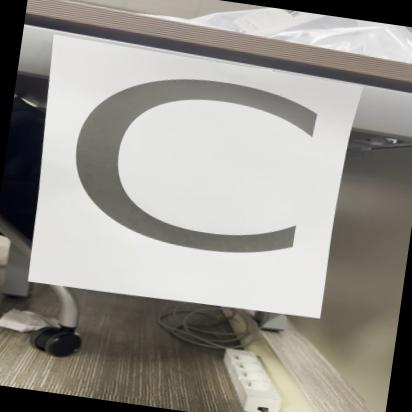seat: (26, 38, 353, 324)
